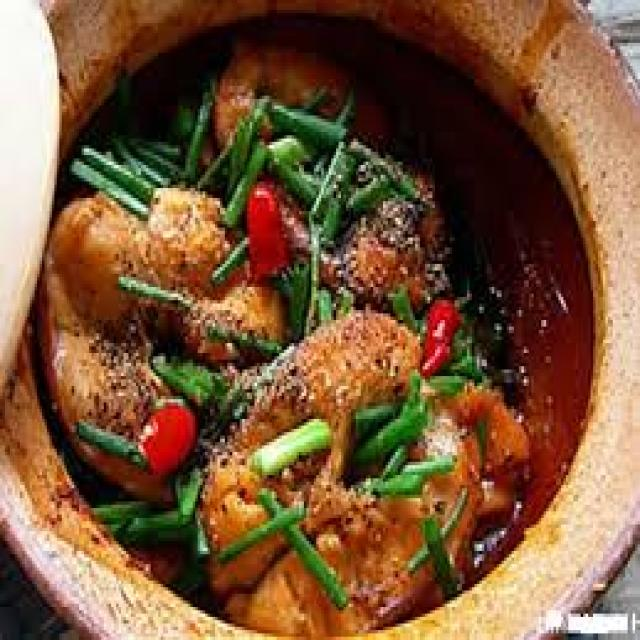ca kho: (37, 20, 591, 630)
